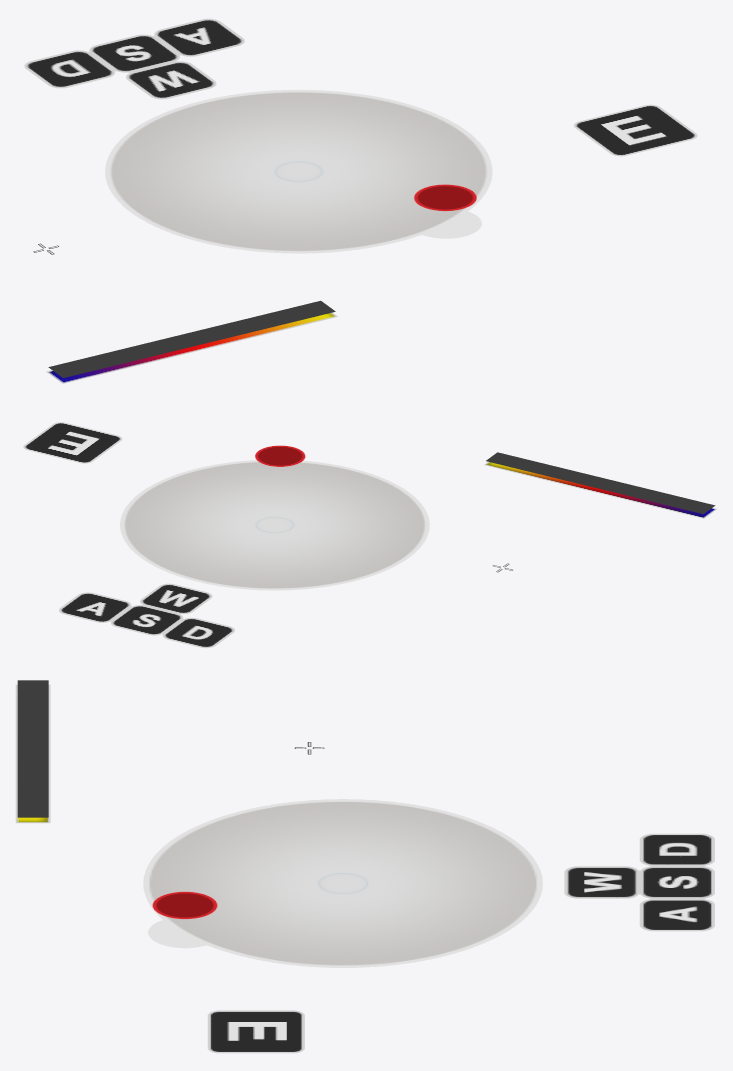
Rendered from desktop_stuff.fbx.
The picture shows the model from 3 angles, top to bottom: view 1: azimuth 30°, elevation 25°; view 2: azimuth 150°, elevation 25°; view 3: azimuth 270°, elevation 25°; orthographic projection. The views are drawn at different scales.
Visible parts, largest first — view 1: dkBall, dkStrengthOverlay, e, dkStrengthBase, dkHit, dkHit_lwr; view 2: dkBall, dkStrengthOverlay, e, dkStrengthBase, dkHit; view 3: dkBall, dkStrengthOverlay, e, dkHit, dkStrengthBase, dkHit_lwr.
Boxes of the visible parts, left/top/right/bottom form: dkBall: left=24, top=18, right=492, bottom=253; dkStrengthOverlay: left=48, top=300, right=335, bottom=377; e: left=573, top=104, right=697, bottom=156; dkStrengthBase: left=46, top=312, right=337, bottom=383; dkHit: left=413, top=184, right=476, bottom=211; dkHit_lwr: left=422, top=211, right=481, bottom=238; dkBall: left=59, top=460, right=429, bottom=648; dkStrengthOverlay: left=486, top=452, right=715, bottom=514; e: left=23, top=422, right=122, bottom=463; dkStrengthBase: left=484, top=462, right=716, bottom=518; dkHit: left=255, top=445, right=305, bottom=466; dkBall: left=143, top=799, right=714, bottom=967; dkStrengthOverlay: left=17, top=680, right=48, bottom=817; e: left=207, top=1010, right=304, bottom=1053; dkHit: left=152, top=891, right=217, bottom=919; dkStrengthBase: left=15, top=684, right=50, bottom=823; dkHit_lwr: left=148, top=920, right=206, bottom=948.
Size of the model in its own units: 437 by 14.62 by 350.
